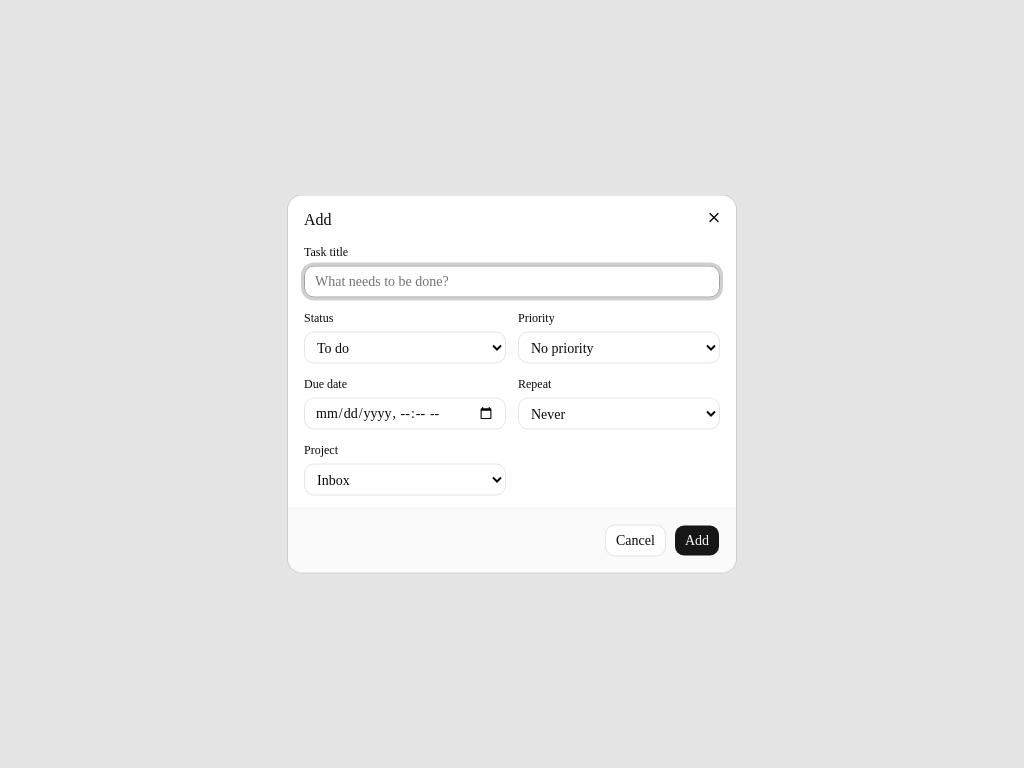
Scenario: TaskEditDialog › rejects an empty title and shows an alert
Click the button "Add" at point(697, 540), box [674,524,720,556]
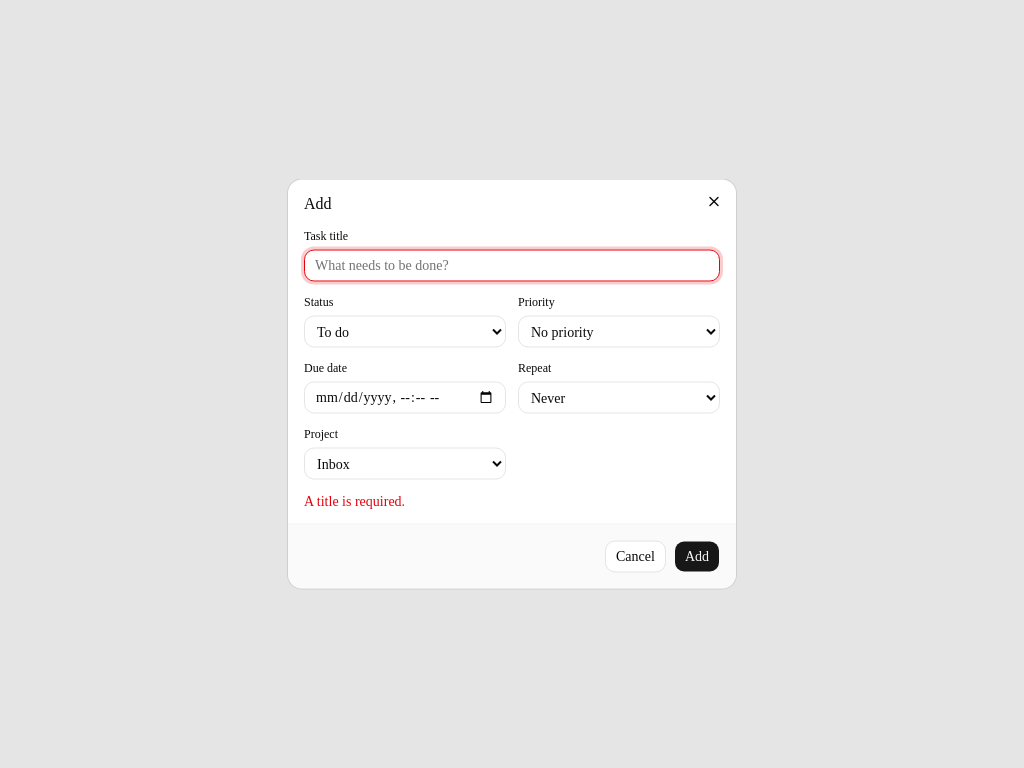
Expected: the message "A title is required." is shown, [304,494,405,508]
